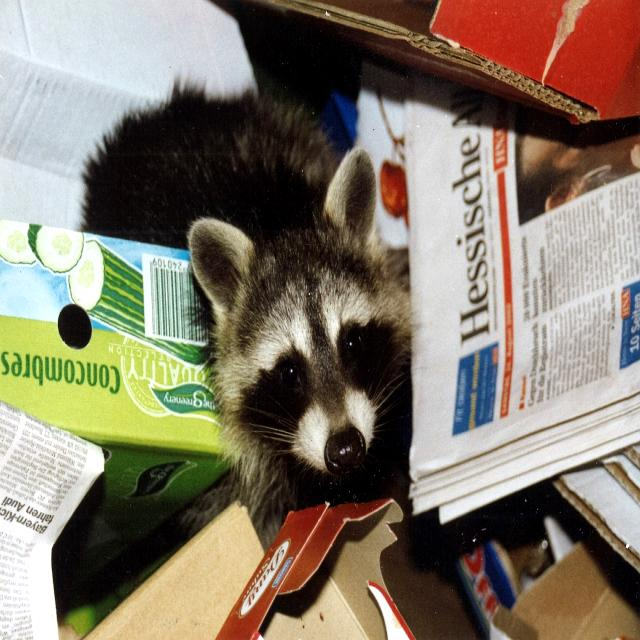Cardboard: (209, 0, 640, 138), (75, 497, 429, 640), (484, 430, 640, 640)
Paper: (399, 68, 640, 538), (0, 400, 114, 640)
